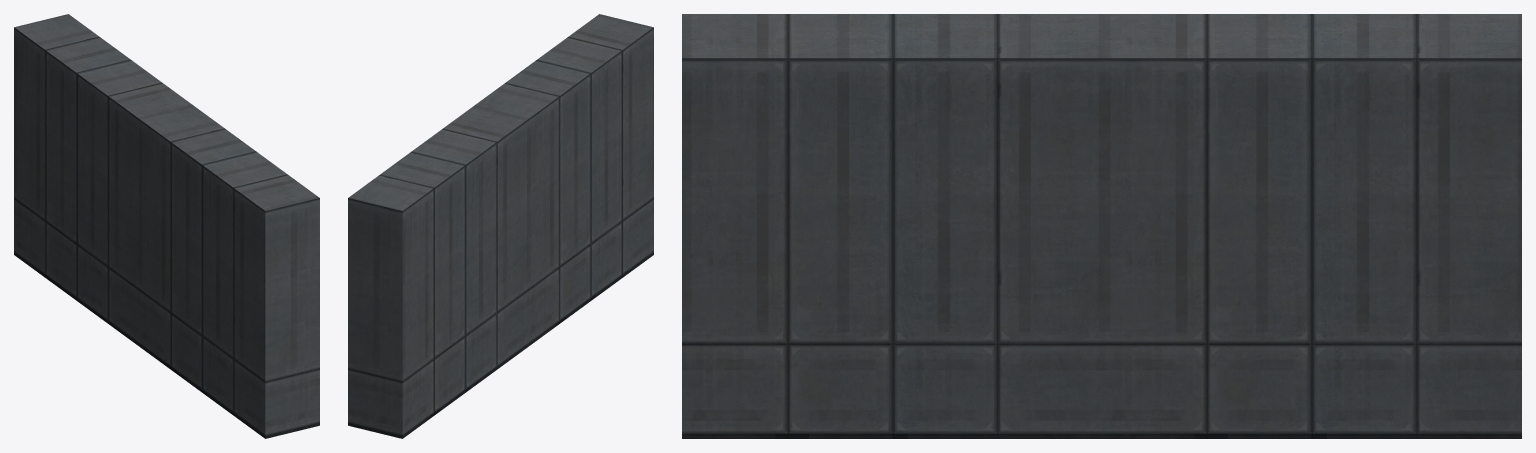
File: Neon_WallX1.FBX
3 renders of one model, left to right at view 1: azimuth 30°, elevation 25°; view 2: azimuth 150°, elevation 25°; view 3: azimuth 270°, elevation 25°, orthographic. The views are drawn at different scales.
Visible parts, largest first — view 1: Neon_WallX1; view 2: Neon_WallX1; view 3: Neon_WallX1.
Boxes of the visible parts, bbox=[...] form: Neon_WallX1: bbox=[14, 14, 319, 438]; Neon_WallX1: bbox=[348, 14, 653, 438]; Neon_WallX1: bbox=[682, 14, 1521, 438].
Size of the model in its own units: 1 by 4 by 8.
